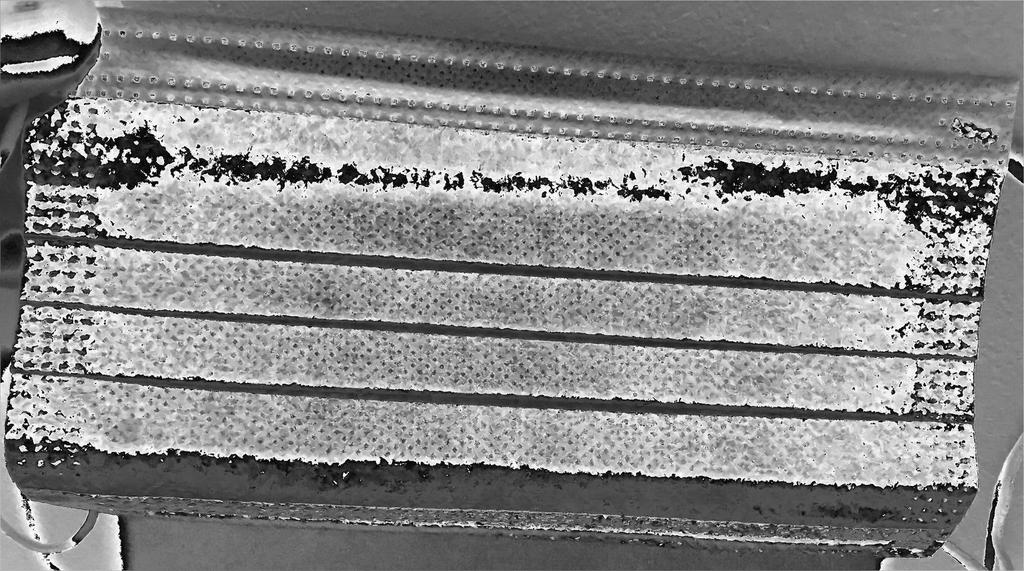High GSM: (9, 90, 1012, 538)
